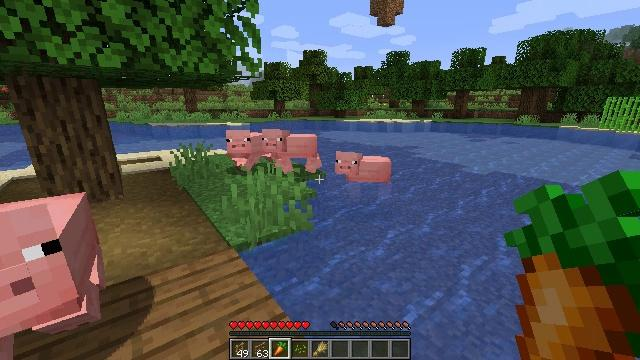pig: (0, 193, 107, 338), (335, 152, 392, 202), (262, 129, 320, 172), (226, 128, 261, 170)
